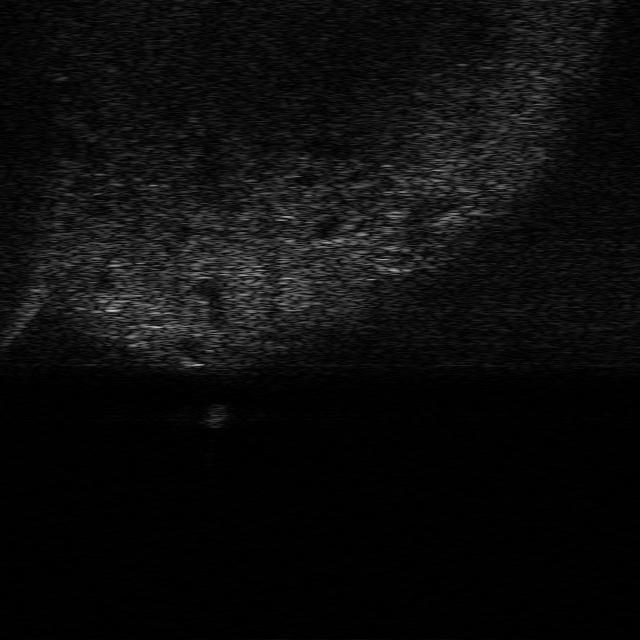cylinder: (201, 404, 231, 429)
